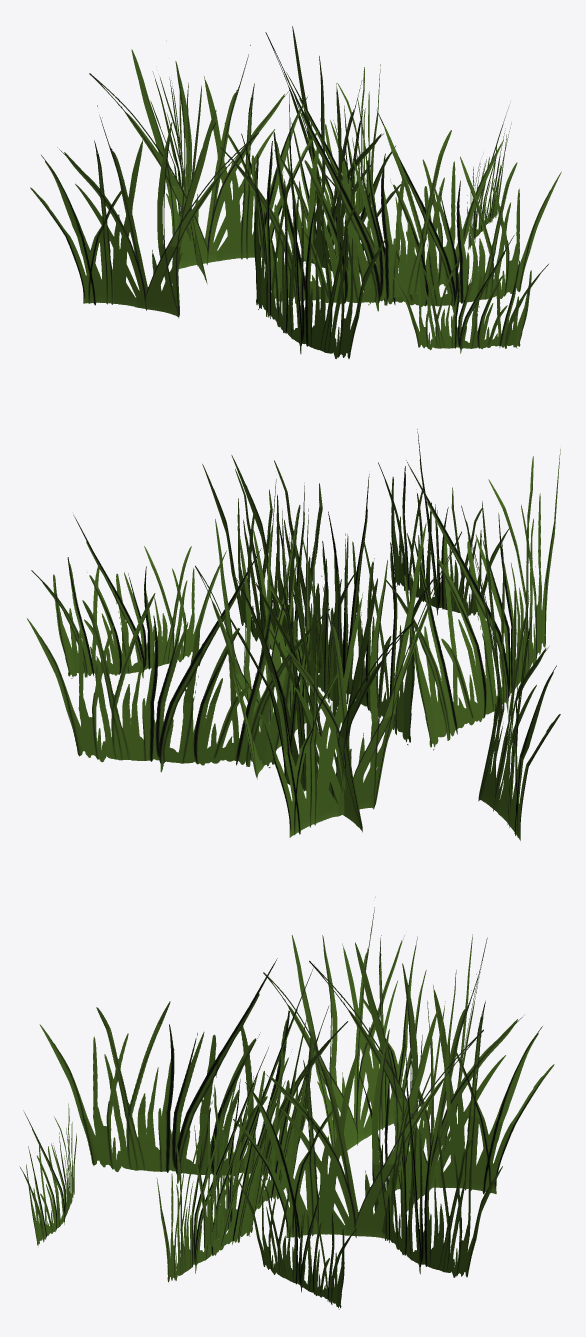
File: grass.fbx
3 renders of one model, top to bottom at view 1: azimuth 30°, elevation 25°; view 2: azimuth 150°, elevation 25°; view 3: azimuth 270°, elevation 25°, orthographic. The views are drawn at different scales.
Parts seen in each view (by area): view 1: grass; view 2: grass; view 3: grass.
Part boxes in pixels (x1=…): grass: x1=30, y1=26, x2=561, y2=358; grass: x1=27, y1=429, x2=560, y2=840; grass: x1=19, y1=897, x2=554, y2=1309.
Bounding box in the file's own units: 357 × 181 × 337.
